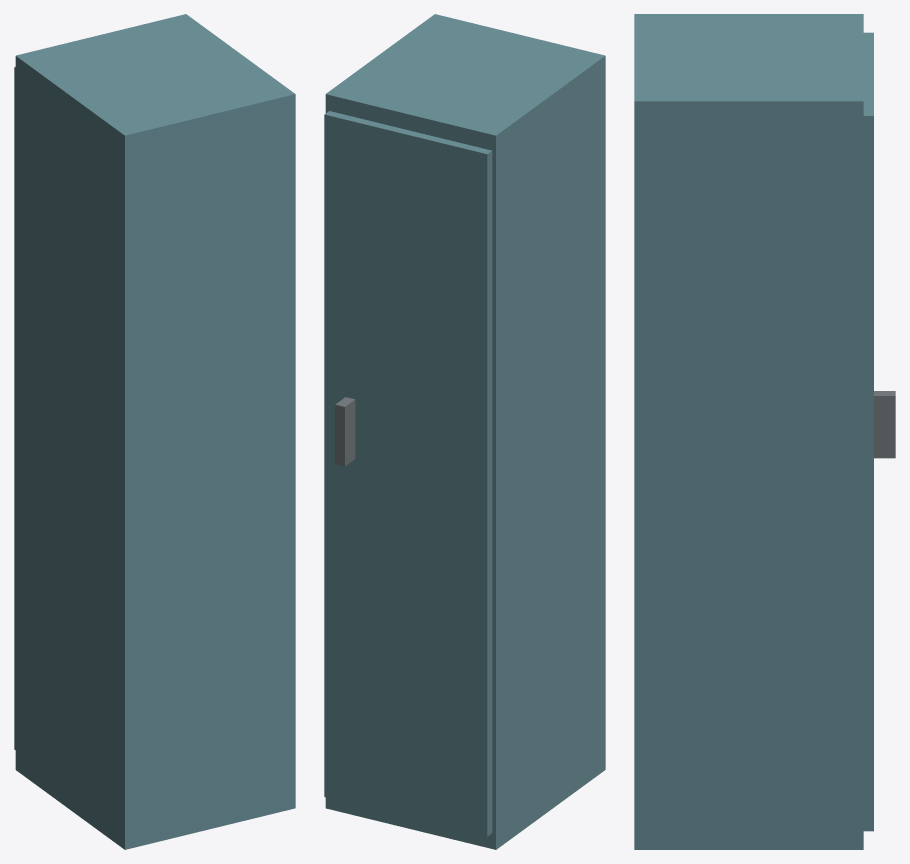
File: locker_single.glb
3 renders of one model, left to right at view 1: azimuth 30°, elevation 25°; view 2: azimuth 150°, elevation 25°; view 3: azimuth 270°, elevation 25°, orthographic. The views are drawn at different scales.
Parts seen in each view (by area): view 1: body, door_left; view 2: door_left, body; view 3: body, door_left.
Boxes of the visible parts, <box> form: body: <box>15,14,295,849</box>; door_left: <box>14,66,15,749</box>; door_left: <box>324,111,492,836</box>; body: <box>325,14,605,849</box>; body: <box>634,14,863,849</box>; door_left: <box>863,32,895,831</box>.
Bounding box in the file's own units: 0.45 × 1.8 × 0.57.
